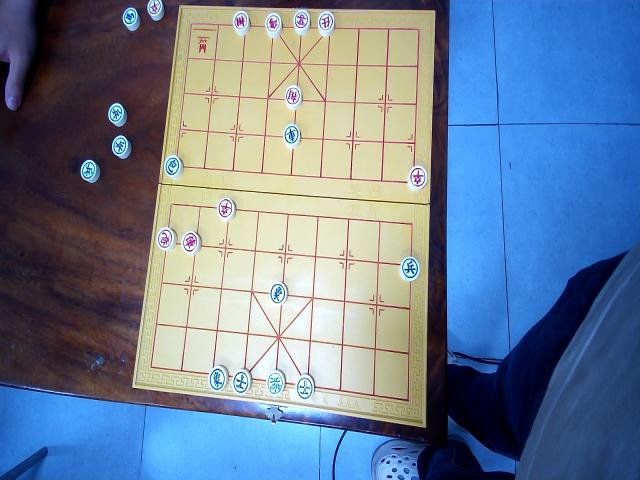piece: (208, 364, 228, 392), (407, 164, 427, 191), (399, 255, 419, 282), (156, 226, 176, 252), (231, 369, 251, 395), (266, 370, 285, 397), (111, 134, 131, 159), (264, 12, 282, 39), (232, 9, 250, 36), (296, 373, 314, 400), (317, 10, 335, 37), (80, 159, 100, 183), (181, 231, 201, 255), (163, 154, 183, 178), (284, 84, 302, 110), (283, 123, 301, 149), (108, 102, 126, 127), (122, 6, 140, 31), (293, 9, 310, 35), (269, 280, 287, 304), (217, 197, 235, 221), (146, 0, 164, 22)
